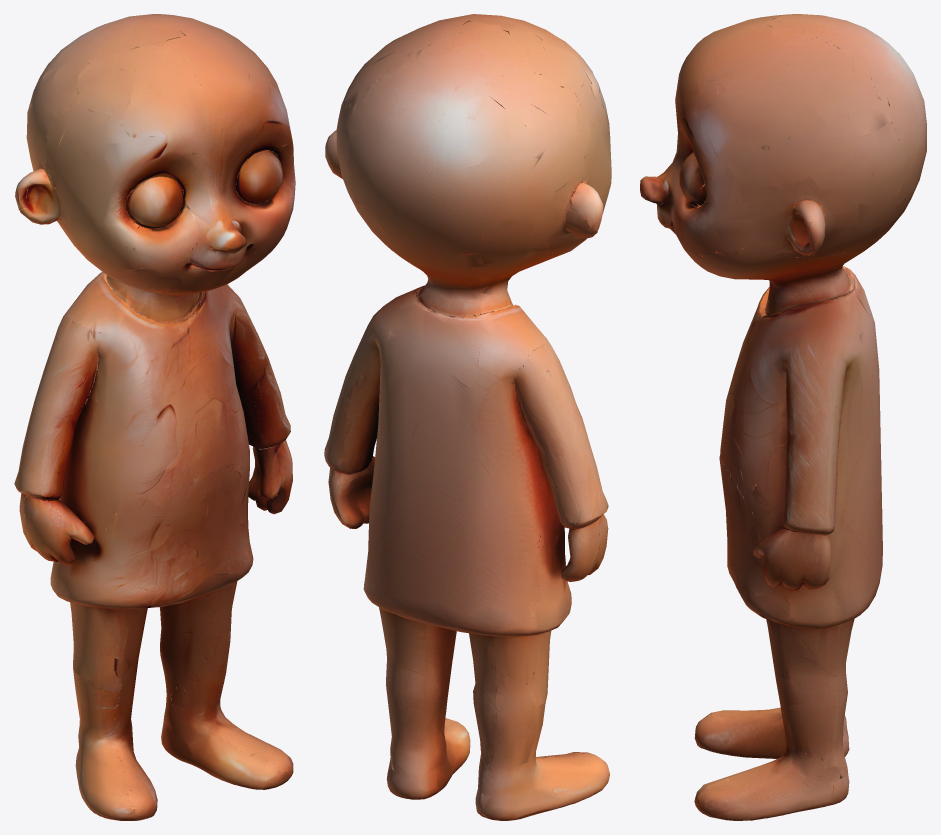
The model's file is terracotta_child.glb.
3 renders of one model, left to right at view 1: azimuth 30°, elevation 25°; view 2: azimuth 150°, elevation 25°; view 3: azimuth 270°, elevation 25°, orthographic. The views are drawn at different scales.
Visible parts, largest first — view 1: model; view 2: model; view 3: model.
Part boxes in pixels (x1,y1,x2,y2): model: (14,14,295,820); model: (324,14,611,820); model: (640,14,926,820).
Bounding box in the file's own units: 0.3801 × 1 × 0.347.
Materials: 1 (1 with a texture image).
